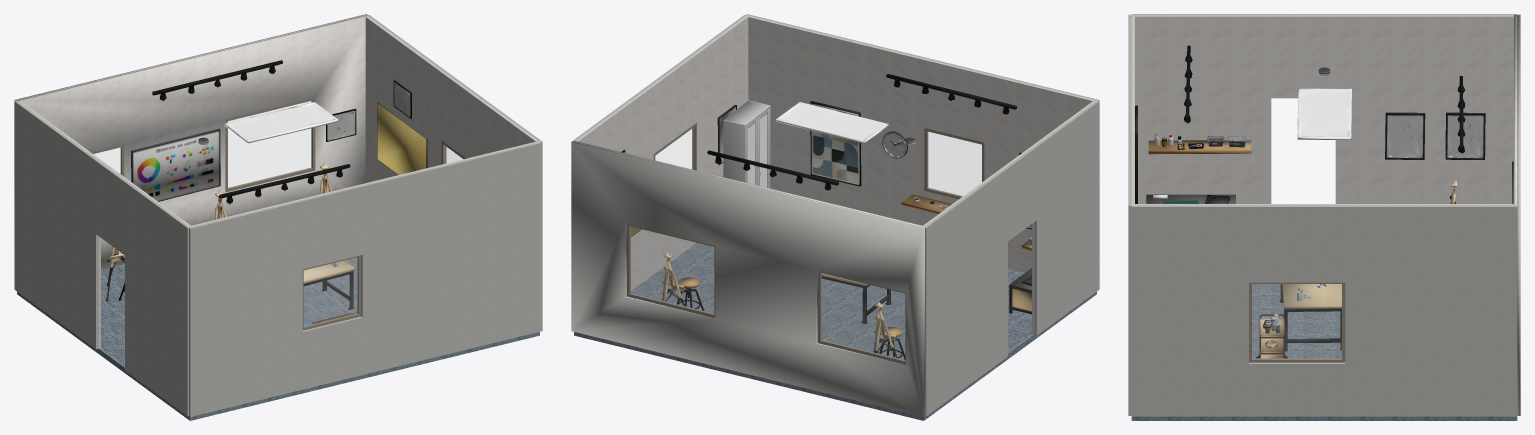
File: scene_named.glb
3 renders of one model, left to right at view 1: azimuth 30°, elevation 25°; view 2: azimuth 150°, elevation 25°; view 3: azimuth 270°, elevation 25°, orthographic. The views are drawn at different scales.
Parts seen in each view (by area): view 1: south_wall_exterior_art_studio/south_wall_exterior_art_studi, west_wall_exterior_art_studio/west_wall_exterior_art_studio/, north_wall_art_studio/north_wall_art_studio/geometry_0, east_wall_art_studio/east_wall_art_studio/geometry_0, floor_art_studio, poster_2, window_2_art_studio/window_2_art_studio/glass, window_4_art_studio/window_4_art_studio/glass, pinboard_0, ceiling_panel_light_0, window_2_art_studio/window_2_art_studio/frame, worktable_0 (+9 smaller); view 2: north_wall_exterior_art_studio/north_wall_exterior_art_studi, south_wall_art_studio/south_wall_art_studio/geometry_0, west_wall_exterior_art_studio/west_wall_exterior_art_studio/, east_wall_art_studio/east_wall_art_studio/geometry_0, floor_art_studio, window_1_art_studio/window_1_art_studio/glass, window_2_art_studio/window_2_art_studio/glass, window_4_art_studio/window_4_art_studio/glass, poster_0, ceiling_panel_light_0, supply_cabinet_0/E_body_1.006, window_2_art_studio/window_2_art_studio/frame (+17 smaller); view 3: east_wall_exterior_art_studio/east_wall_exterior_art_studio/, west_wall_art_studio/west_wall_art_studio/geometry_0, window_3_art_studio/window_3_art_studio/glass, floor_art_studio, ceiling_panel_light_0, worktable_0, sketch_print_2, sketch_print_3, north_wall_exterior_art_studio/north_wall_exterior_art_studi, south_wall_exterior_art_studio/south_wall_exterior_art_studi, window_3_art_studio/window_3_art_studio/frame, floating_shelf_1 (+8 smaller).
Boxes of the visible parts, x1,y1,x2,y2 form: south_wall_exterior_art_studio/south_wall_exterior_art_studi: [189, 142, 542, 416]; west_wall_exterior_art_studio/west_wall_exterior_art_studio/: [14, 101, 188, 416]; north_wall_art_studio/north_wall_art_studio/geometry_0: [16, 15, 368, 269]; east_wall_art_studio/east_wall_art_studio/geometry_0: [365, 16, 537, 182]; floor_art_studio: [17, 257, 539, 420]; poster_2: [131, 128, 220, 201]; window_2_art_studio/window_2_art_studio/glass: [228, 101, 311, 187]; window_4_art_studio/window_4_art_studio/glass: [304, 257, 357, 326]; pinboard_0: [377, 102, 427, 174]; ceiling_panel_light_0: [224, 102, 338, 143]; window_2_art_studio/window_2_art_studio/frame: [225, 97, 315, 192]; worktable_0: [303, 260, 354, 309]; north_wall_exterior_art_studio/north_wall_exterior_art_studi: [571, 142, 924, 416]; south_wall_art_studio/south_wall_art_studio/geometry_0: [745, 15, 1097, 272]; west_wall_exterior_art_studio/west_wall_exterior_art_studio/: [925, 101, 1099, 416]; east_wall_art_studio/east_wall_art_studio/geometry_0: [576, 16, 748, 290]; floor_art_studio: [574, 243, 1096, 420]; window_1_art_studio/window_1_art_studio/glass: [821, 273, 904, 360]; window_2_art_studio/window_2_art_studio/glass: [630, 227, 713, 313]; window_4_art_studio/window_4_art_studio/glass: [928, 132, 981, 195]; poster_0: [810, 101, 861, 186]; ceiling_panel_light_0: [775, 102, 888, 143]; supply_cabinet_0/E_body_1.006: [723, 120, 745, 182]; window_2_art_studio/window_2_art_studio/frame: [627, 224, 715, 317]; east_wall_exterior_art_studio/east_wall_exterior_art_studio/: [1131, 205, 1517, 416]; west_wall_art_studio/west_wall_art_studio/geometry_0: [1135, 15, 1513, 203]; window_3_art_studio/window_3_art_studio/glass: [1252, 284, 1341, 358]; floor_art_studio: [1131, 284, 1517, 420]; ceiling_panel_light_0: [1297, 88, 1351, 139]; worktable_0: [1280, 284, 1341, 351]; sketch_print_2: [1385, 112, 1425, 159]; sketch_print_3: [1445, 112, 1485, 159]; north_wall_exterior_art_studio/north_wall_exterior_art_studi: [1517, 14, 1520, 415]; south_wall_exterior_art_studio/south_wall_exterior_art_studi: [1128, 14, 1131, 415]; window_3_art_studio/window_3_art_studio/frame: [1249, 282, 1345, 362]; floating_shelf_1: [1148, 140, 1251, 154].
Bounding box in the file's own units: 7.1 × 3.7 × 6.1.
56 materials, 48 textured.
